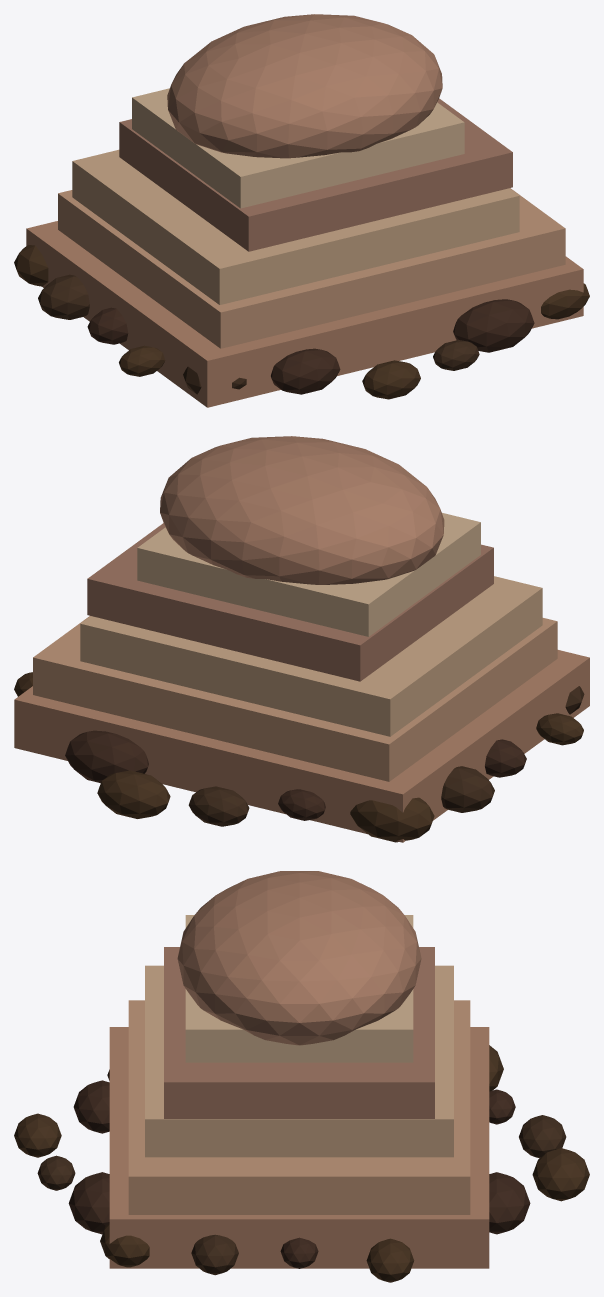
File: Layered_Rock_Formation_Babylon.glb
3 views of the same model, one above another, from view 1: azimuth 30°, elevation 25°; view 2: azimuth 150°, elevation 25°; view 3: azimuth 270°, elevation 25° (orthographic). The views are drawn at different scales.
Visible parts, largest first — view 1: Capstone, Strata_Band_3, Strata_Band_1, Strata_Band_2, Strata_Band_4, Strata_Band_5, Talus_4, Talus_7, Talus_11, Talus_6, Talus_10, Talus_5 (+3 smaller); view 2: Capstone, Strata_Band_3, Strata_Band_1, Strata_Band_2, Strata_Band_4, Strata_Band_5, Talus_16, Talus_12, Talus_15, Talus_11, Talus_14, Talus_10 (+2 smaller); view 3: Capstone, Strata_Band_2, Strata_Band_1, Strata_Band_4, Strata_Band_3, Strata_Band_5, Talus_15, Talus_16, Talus_4, Talus_6, Talus_18, Talus_7 (+6 smaller).
Boxes of the visible parts, x1=… form: Capstone: x1=167, y1=14, x2=442, y2=158; Strata_Band_3: x1=72, y1=149, x2=519, y2=304; Strata_Band_1: x1=26, y1=221, x2=583, y2=407; Strata_Band_2: x1=58, y1=188, x2=565, y2=348; Strata_Band_4: x1=119, y1=98, x2=512, y2=251; Strata_Band_5: x1=132, y1=88, x2=464, y2=208; Talus_4: x1=453, y1=299, x2=534, y2=352; Talus_7: x1=271, y1=348, x2=340, y2=394; Talus_11: x1=38, y1=274, x2=89, y2=319; Talus_6: x1=362, y1=360, x2=420, y2=399; Talus_10: x1=87, y1=307, x2=128, y2=344; Talus_5: x1=433, y1=340, x2=479, y2=370; Capstone: x1=160, y1=436, x2=444, y2=584; Strata_Band_3: x1=80, y1=576, x2=542, y2=736; Strata_Band_1: x1=14, y1=650, x2=589, y2=842; Strata_Band_2: x1=33, y1=616, x2=557, y2=781; Strata_Band_4: x1=87, y1=523, x2=493, y2=681; Strata_Band_5: x1=137, y1=513, x2=480, y2=636; Talus_16: x1=65, y1=730, x2=148, y2=783; Talus_12: x1=350, y1=797, x2=434, y2=842; Talus_15: x1=97, y1=770, x2=170, y2=818; Talus_11: x1=441, y1=766, x2=494, y2=812; Talus_14: x1=188, y1=786, x2=249, y2=826; Talus_10: x1=485, y1=739, x2=526, y2=777; Capstone: x1=177, y1=871, x2=421, y2=1045; Strata_Band_2: x1=128, y1=1000, x2=470, y2=1214; Strata_Band_1: x1=109, y1=1027, x2=489, y2=1268; Strata_Band_4: x1=164, y1=947, x2=434, y2=1118; Strata_Band_3: x1=145, y1=965, x2=453, y2=1157; Strata_Band_5: x1=185, y1=915, x2=413, y2=1062; Talus_15: x1=532, y1=1148, x2=589, y2=1201; Talus_16: x1=489, y1=1172, x2=530, y2=1234; Talus_4: x1=68, y1=1172, x2=109, y2=1234; Talus_6: x1=14, y1=1113, x2=61, y2=1157; Talus_18: x1=366, y1=1238, x2=414, y2=1282; Talus_7: x1=73, y1=1080, x2=109, y2=1133.
Size of the model in its own units: 10.31 by 5.73 by 10.62.
